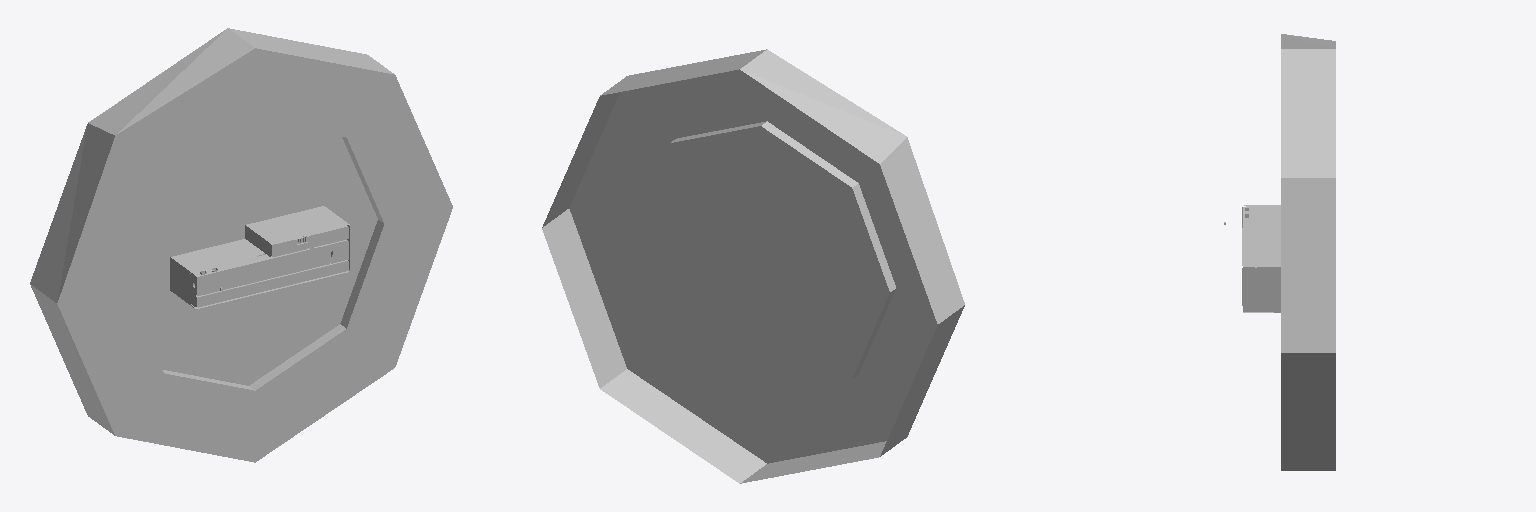
File: debug_0007_dec.obj
The picture shows the model from 3 angles: view 1: azimuth 30°, elevation 25°; view 2: azimuth 150°, elevation 25°; view 3: azimuth 270°, elevation 25°; orthographic projection.
Parts seen in each view (by area): view 1: Cube.022_Cube.049; view 2: Cube.022_Cube.049; view 3: Cube.022_Cube.049.
Boxes of the visible parts, x1,y1,x2,y2 form: Cube.022_Cube.049: [30, 28, 452, 462]; Cube.022_Cube.049: [542, 49, 964, 483]; Cube.022_Cube.049: [1224, 34, 1335, 470].
Bounding box in the file's own units: 2347 × 2347 × 579.